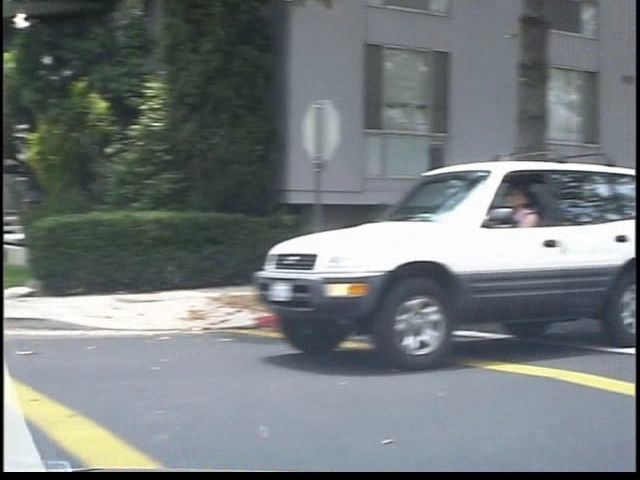person: (511, 174, 561, 350)
